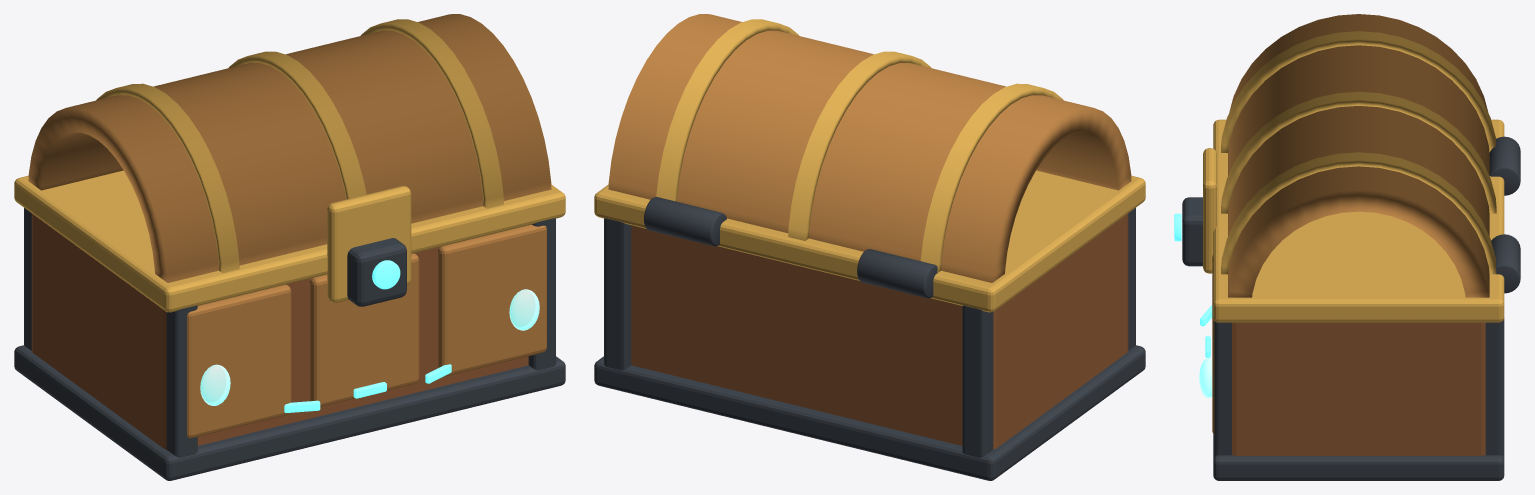
The model's file is fantasy_magic_chest.glb.
3 views of the same model, side by side, from view 1: azimuth 30°, elevation 25°; view 2: azimuth 150°, elevation 25°; view 3: azimuth 270°, elevation 25° (orthographic). The views are drawn at different scales.
Visible parts, largest first — view 1: Lid_ArchedWood, Chest_Base, Base_TopBand, Base_BottomBand, Front_RaisedPlank_3, Front_RaisedPlank_1, Front_RaisedPlank_2, Lock_Backplate, Lid_GoldBand_1, Lid_GoldBand_3, Base_LeftBand, Lid_GoldBand_2 (+5 smaller); view 2: Lid_ArchedWood, Chest_Base, Base_TopBand, Base_BottomBand, Base_LeftBand, Lid_GoldBand_2, Lid_GoldBand_1, Lid_GoldBand_3, Base_RightBand, Rear_Hinge_1, Rear_Hinge_2; view 3: Lid_ArchedWood, Chest_Base, Base_TopBand, Base_BottomBand, Base_RightBand, Lid_GoldBand_3, Lid_GoldBand_2, Lid_GoldBand_1, Lock_Backplate, Lock_Body, Rear_Hinge_1, Rear_Hinge_2 (+2 smaller).
Boxes of the visible parts, x1,y1,x2,y2 form: Lid_ArchedWood: [28, 14, 551, 282]; Chest_Base: [31, 213, 528, 449]; Base_TopBand: [14, 170, 565, 312]; Base_BottomBand: [14, 345, 565, 480]; Front_RaisedPlank_3: [438, 224, 546, 376]; Front_RaisedPlank_1: [187, 284, 291, 438]; Front_RaisedPlank_2: [310, 253, 419, 406]; Lock_Backplate: [327, 186, 411, 302]; Lid_GoldBand_1: [96, 83, 239, 273]; Lid_GoldBand_3: [360, 19, 503, 208]; Base_LeftBand: [24, 208, 197, 457]; Lid_GoldBand_2: [228, 51, 366, 199]; Lid_ArchedWood: [608, 14, 1131, 282]; Chest_Base: [631, 213, 1128, 449]; Base_TopBand: [594, 170, 1145, 312]; Base_BottomBand: [594, 345, 1145, 480]; Base_LeftBand: [962, 208, 1135, 457]; Lid_GoldBand_2: [788, 51, 931, 240]; Lid_GoldBand_1: [920, 83, 1063, 272]; Lid_GoldBand_3: [656, 19, 799, 201]; Base_RightBand: [604, 218, 631, 370]; Rear_Hinge_1: [857, 249, 937, 298]; Rear_Hinge_2: [644, 197, 726, 246]; Lid_ArchedWood: [1228, 14, 1489, 297]; Chest_Base: [1232, 322, 1485, 455]; Base_TopBand: [1213, 119, 1504, 322]; Base_BottomBand: [1213, 318, 1504, 480]; Base_RightBand: [1214, 321, 1503, 455]; Lid_GoldBand_3: [1221, 152, 1496, 274]; Lid_GoldBand_2: [1221, 91, 1496, 213]; Lid_GoldBand_1: [1221, 31, 1495, 152]; Lock_Backplate: [1203, 148, 1216, 273]; Lock_Body: [1182, 197, 1202, 266]; Rear_Hinge_1: [1489, 136, 1520, 195]; Rear_Hinge_2: [1491, 234, 1520, 293].
Bounding box in the file's own units: 0.94 × 0.705 × 0.749.
